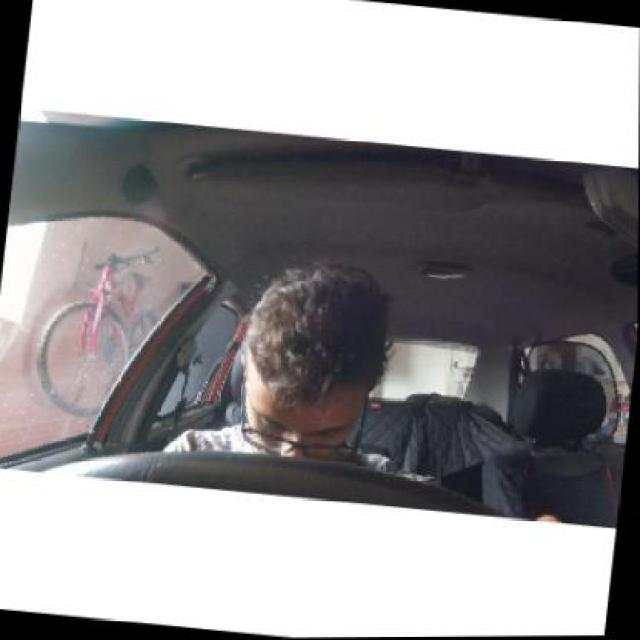drowsy: (232, 254, 404, 464)
